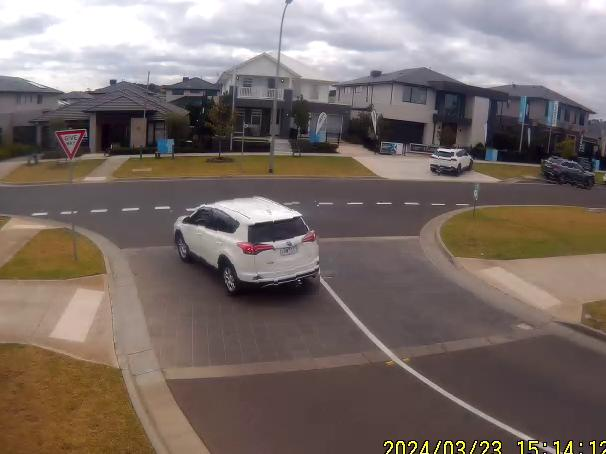VEHICLE TYPE 1: (171, 193, 320, 296), (539, 157, 596, 189), (429, 145, 475, 177)
wheel: (218, 262, 234, 293), (173, 229, 188, 260), (559, 172, 571, 188), (585, 178, 596, 188)
